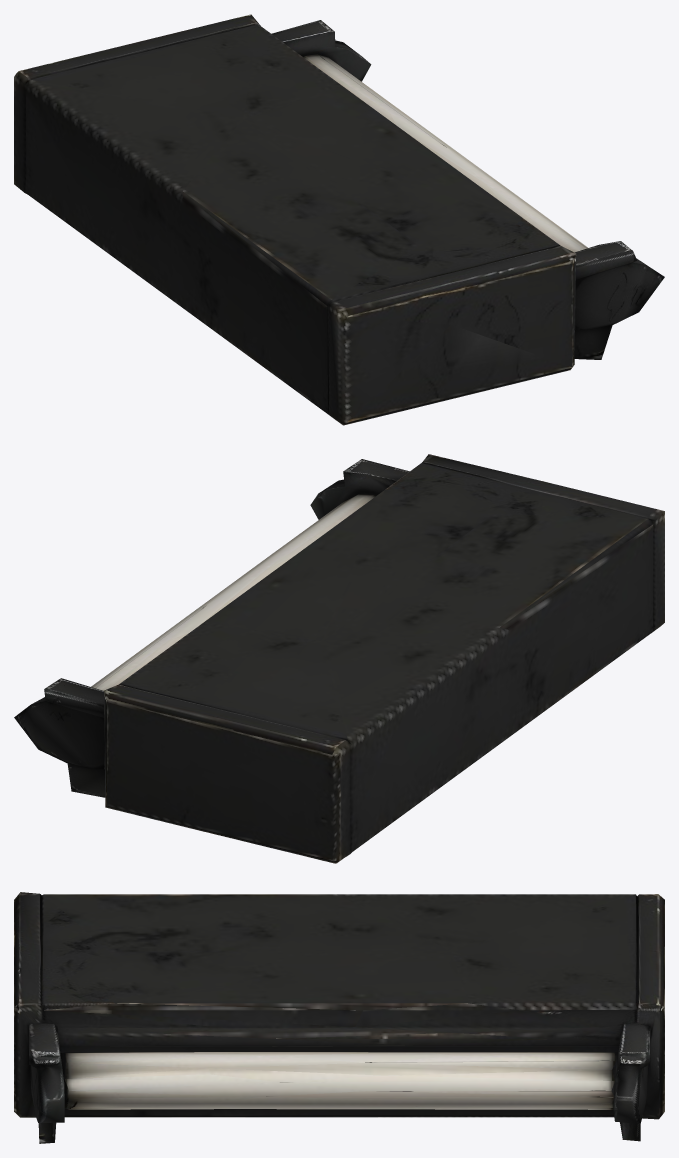
Rendered from tripo_convert_a086a0dd-495b-4d97-a1ee-45496ac80fc1.fbx.
3 renders of one model, top to bottom at view 1: azimuth 30°, elevation 25°; view 2: azimuth 150°, elevation 25°; view 3: azimuth 270°, elevation 25°, orthographic.
Parts seen in each view (by area): view 1: tripo_node_a086a0dd; view 2: tripo_node_a086a0dd; view 3: tripo_node_a086a0dd.
Part boxes in pixels (left/top/right/bottom): tripo_node_a086a0dd: left=14, top=14, right=664, bottom=425; tripo_node_a086a0dd: left=14, top=454, right=664, bottom=863; tripo_node_a086a0dd: left=14, top=892, right=664, bottom=1143.
Size of the model in its own units: 0.5884 by 0.2059 by 0.9999.
Materials: 1 (1 with a texture image).
